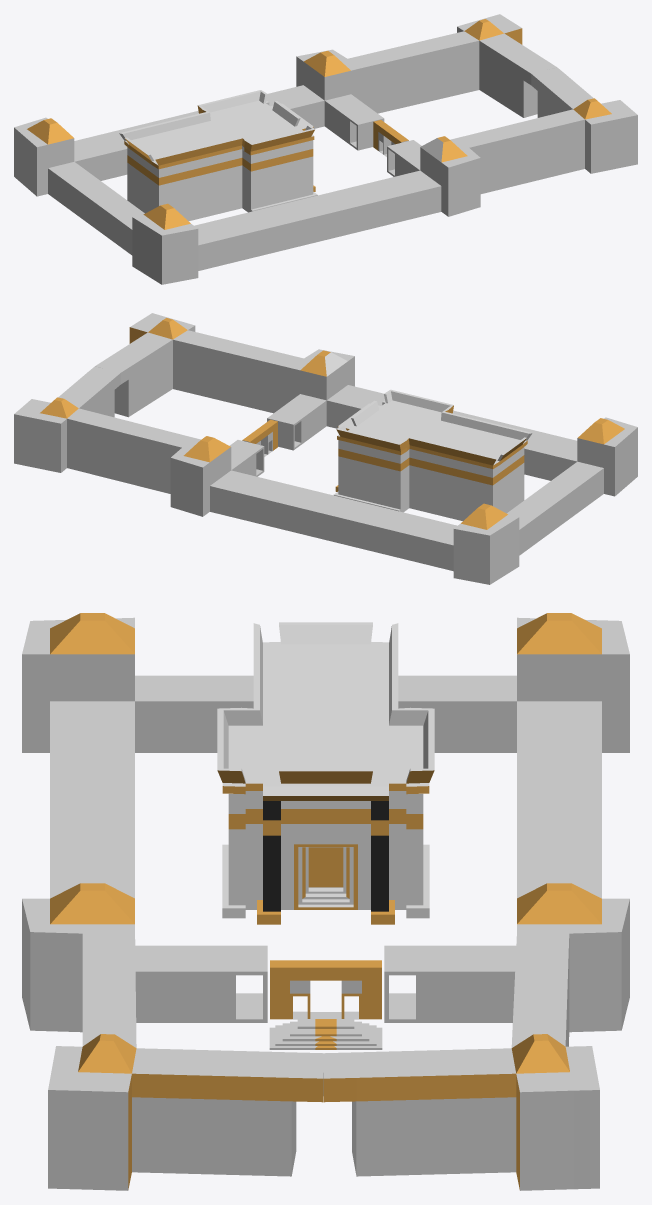
File: HRAMSOLOMONA.fbx
The picture shows the model from 3 angles, top to bottom: view 1: azimuth 30°, elevation 25°; view 2: azimuth 150°, elevation 25°; view 3: azimuth 270°, elevation 25°; orthographic projection. The views are drawn at different scales.
Visible parts, largest first — view 1: Cube.001, Cube; view 2: Cube.001, Cube; view 3: Cube.001, Cube.
Part boxes in pixels (<box>): Cube.001: <box>14,14,637,284</box>; Cube: <box>119,90,317,221</box>; Cube.001: <box>14,313,637,584</box>; Cube: <box>334,389,532,521</box>; Cube.001: <box>22,613,629,1190</box>; Cube: <box>217,622,434,924</box>.
Size of the model in its own units: 3949 by 600 by 2139.
